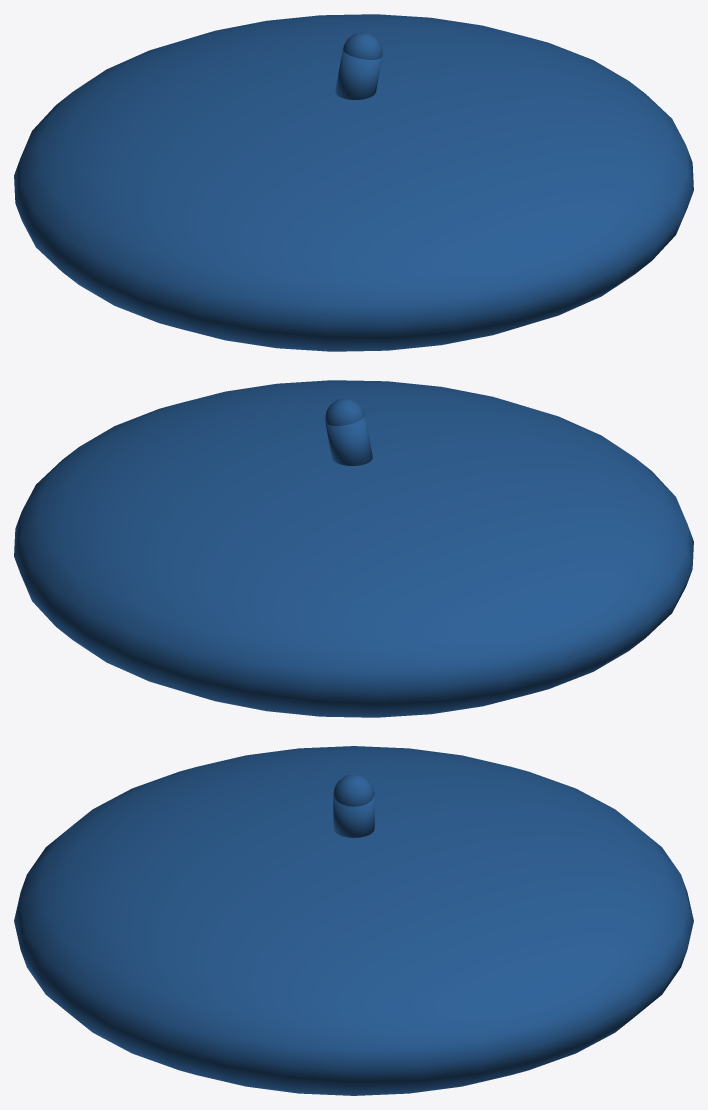
The model's file is hat_beret.glb.
The picture shows the model from 3 angles, top to bottom: view 1: azimuth 30°, elevation 25°; view 2: azimuth 150°, elevation 25°; view 3: azimuth 270°, elevation 25°; orthographic projection.
Visible parts, largest first — view 1: beret, stem, stem_b; view 2: beret, stem, stem_b; view 3: beret, stem, stem_b.
Part boxes in pixels (box(x1,y1,x2,y2)): beret: box(14, 14, 693, 351); stem: box(335, 49, 382, 99); stem_b: box(343, 32, 382, 59); beret: box(14, 380, 693, 717); stem: box(325, 415, 372, 465); stem_b: box(325, 398, 364, 425); beret: box(14, 746, 693, 1095); stem: box(333, 795, 374, 837); stem_b: box(333, 774, 374, 806).
Size of the model in its own units: 0.68 by 0.26 by 0.66.
